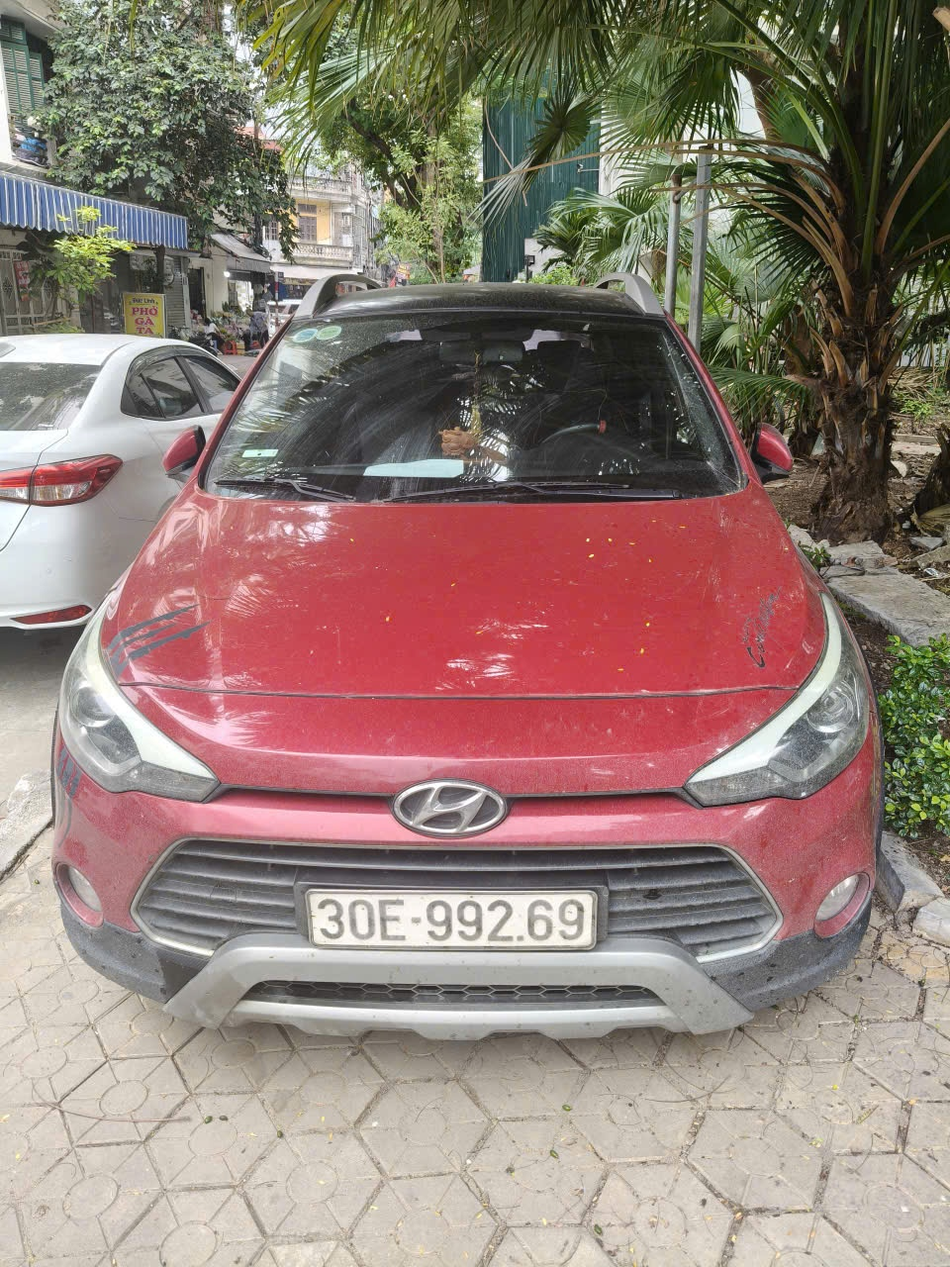plate: (133, 889, 301, 922)
